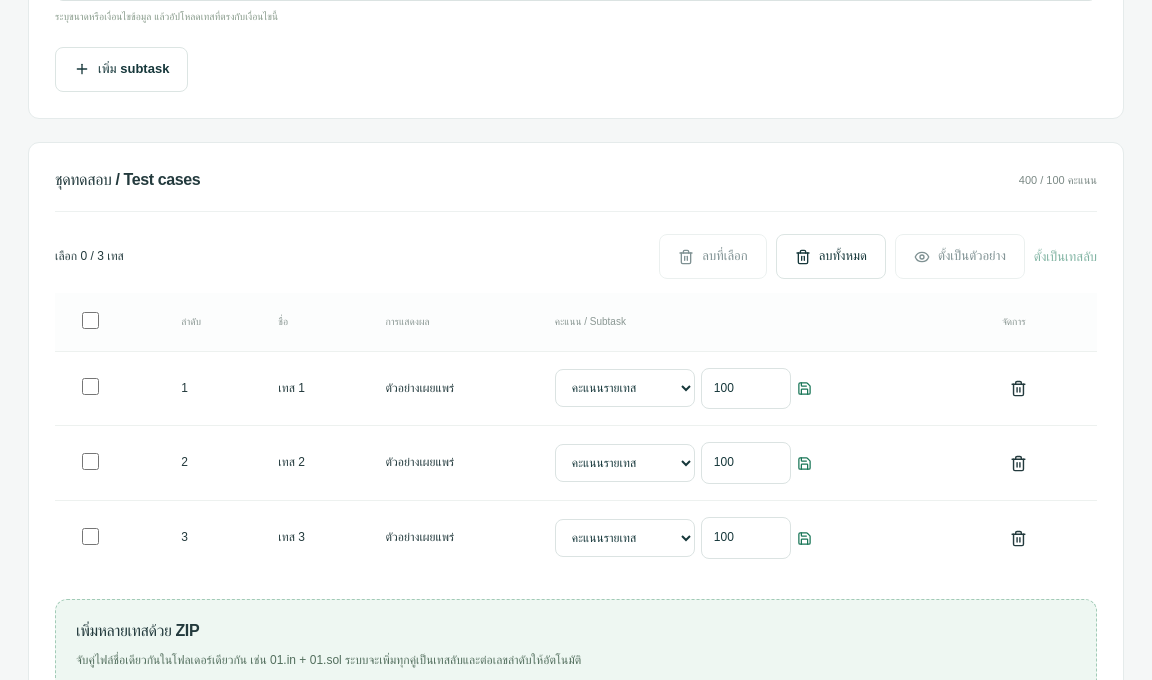
Test: refreshes completed deletions and retains failed selections after a partial failure
(page scrolled)
Click the checkbox named "เลือกเทสทั้งหมด" at x=90, y=320, box [82,312,99,329]
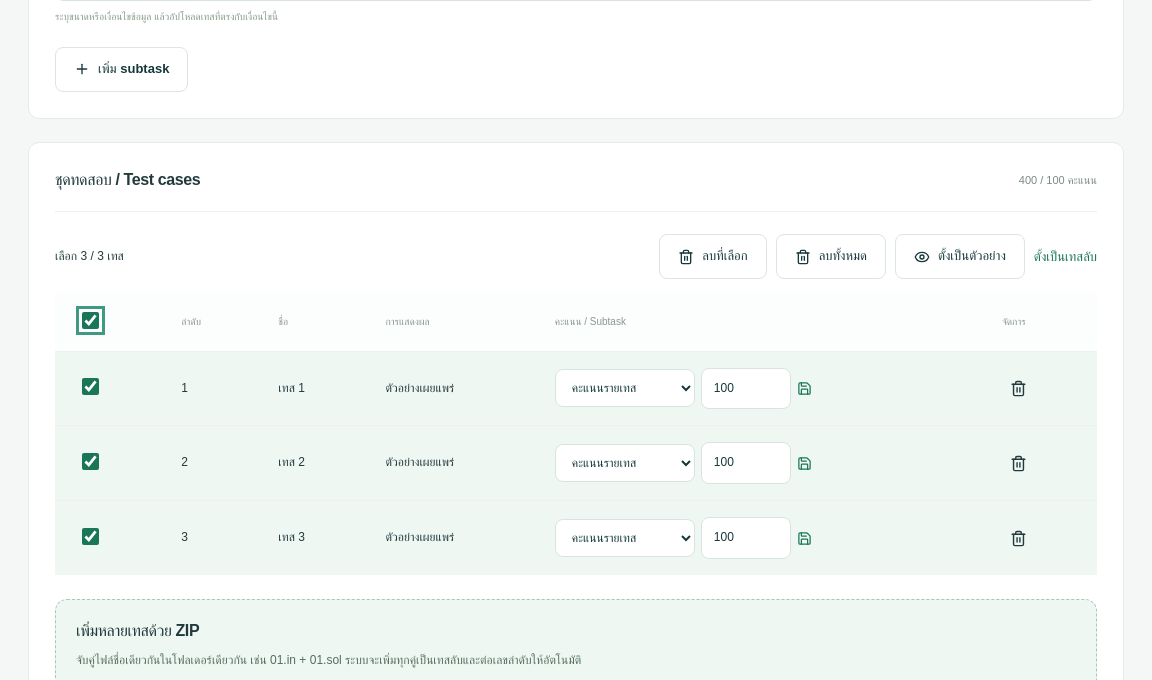
Click the button "ลบที่เลือก" at x=713, y=257, box [659,234,767,279]
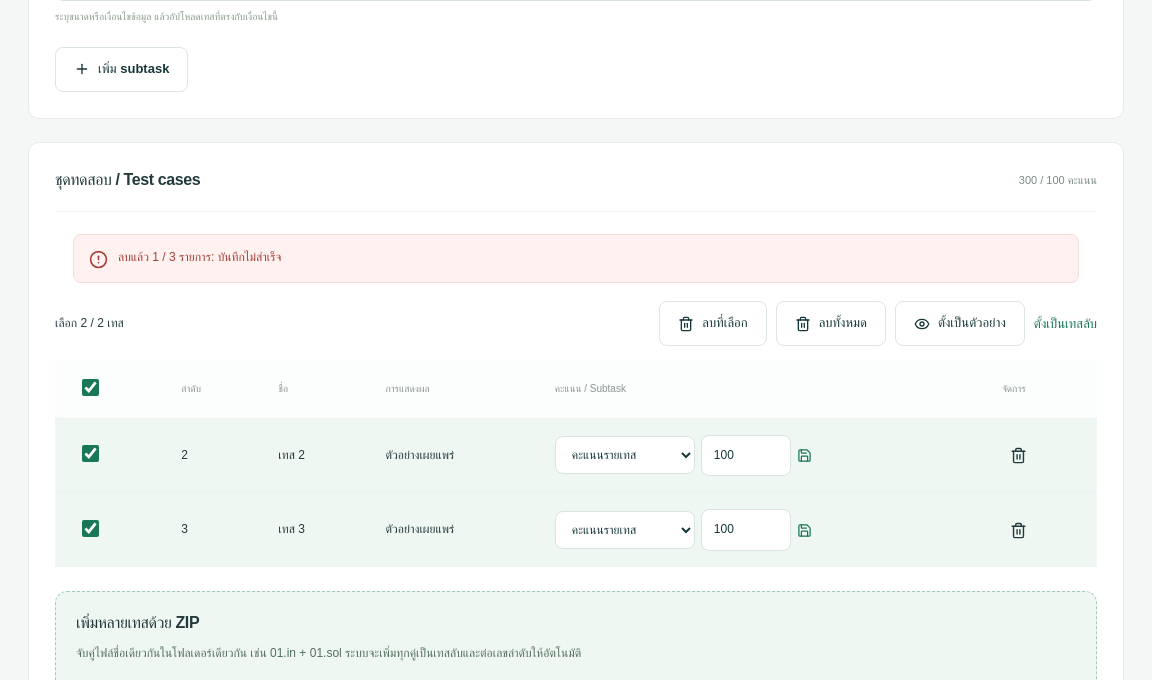
expect the checkbox named "เลือกเทส เทส 2" is checked: met, box [82,445,99,462]
expect the checkbox named "เลือกเทส เทส 3" is checked: met, box [82,520,99,537]
expect the text "ลบแล้ว 1 / 3 รายการ: บันทึกไม่สำเร็จ" is shown: met, box [118,250,282,264]
